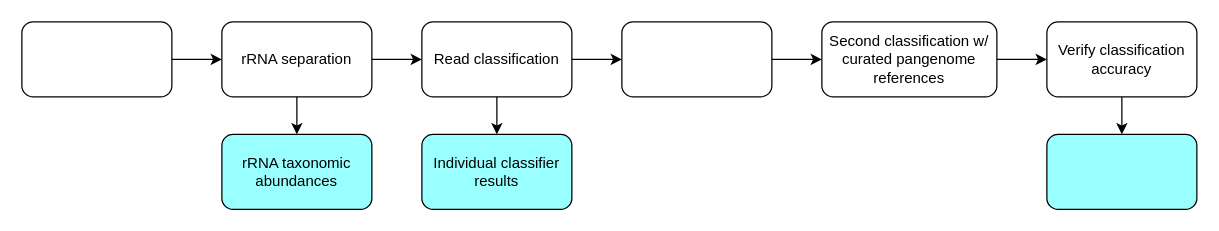
Some shapes in this 1219 by 231 pixel diagram are drawn without their labels. Each missing label, with the centre of its shape:
Classifier aggregation: point (696, 59)
Final mapping of reads to species: point (1121, 171)
Raw ribo-seq data: point (96, 59)
